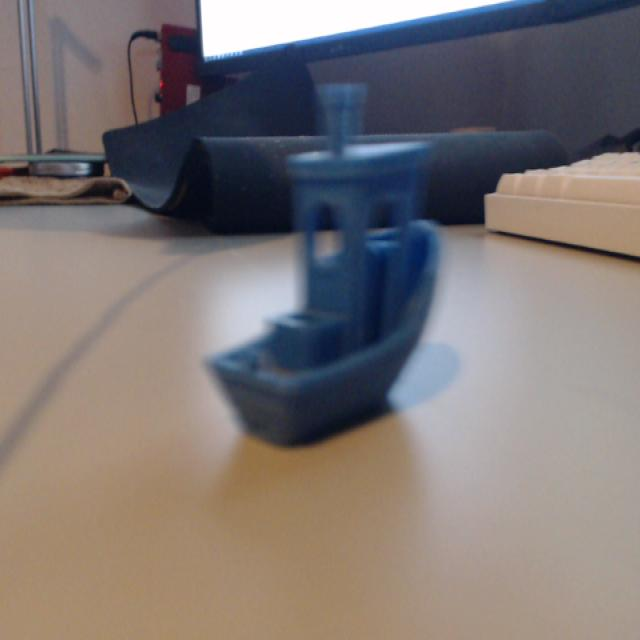benchy: (200, 77, 444, 447)
